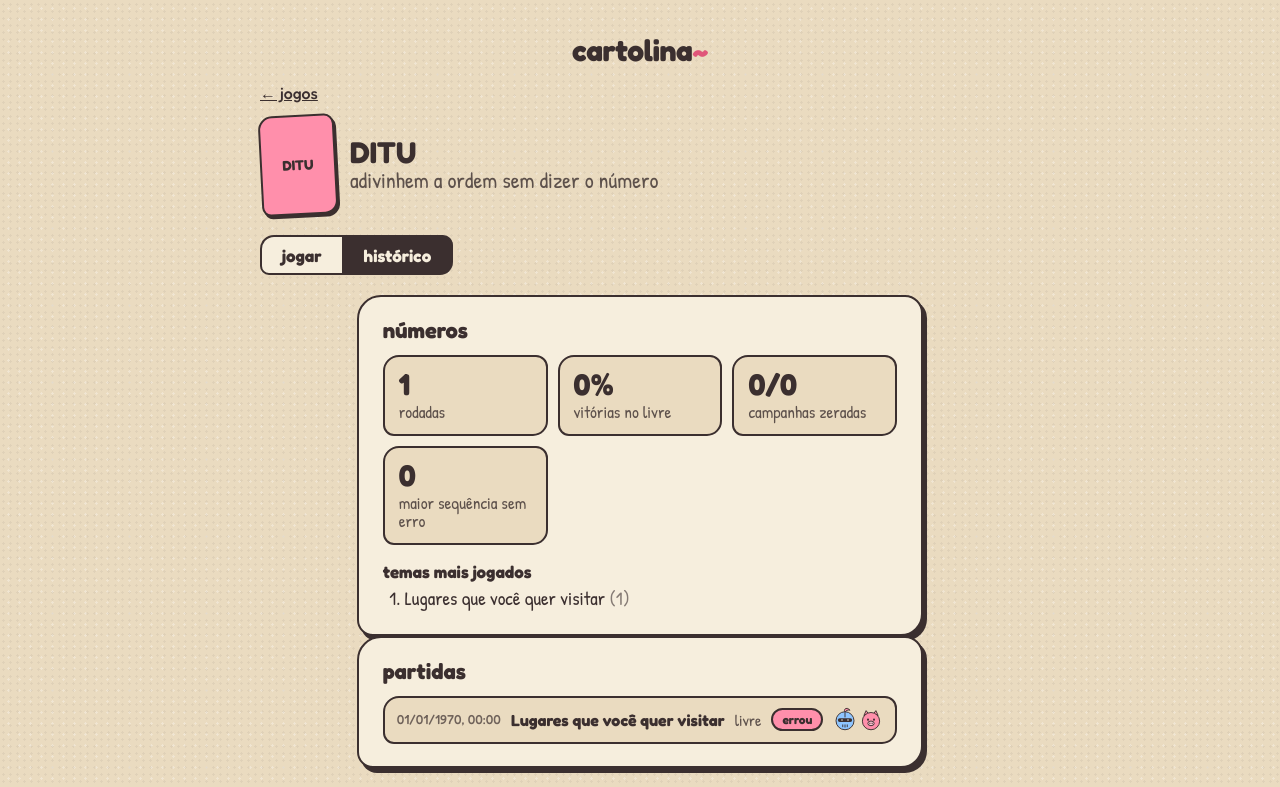
Test: GamePage › aba histórico › números e partidas do jogo; expande a fila revelada
Expected: the text "rodadas" is shown, [399,400,445,423]
Click the button "01/01/1970, 00:00 Lugares que você quer visitar livre errou" at (640, 720), box [385,698,895,742]
(page scrolled)
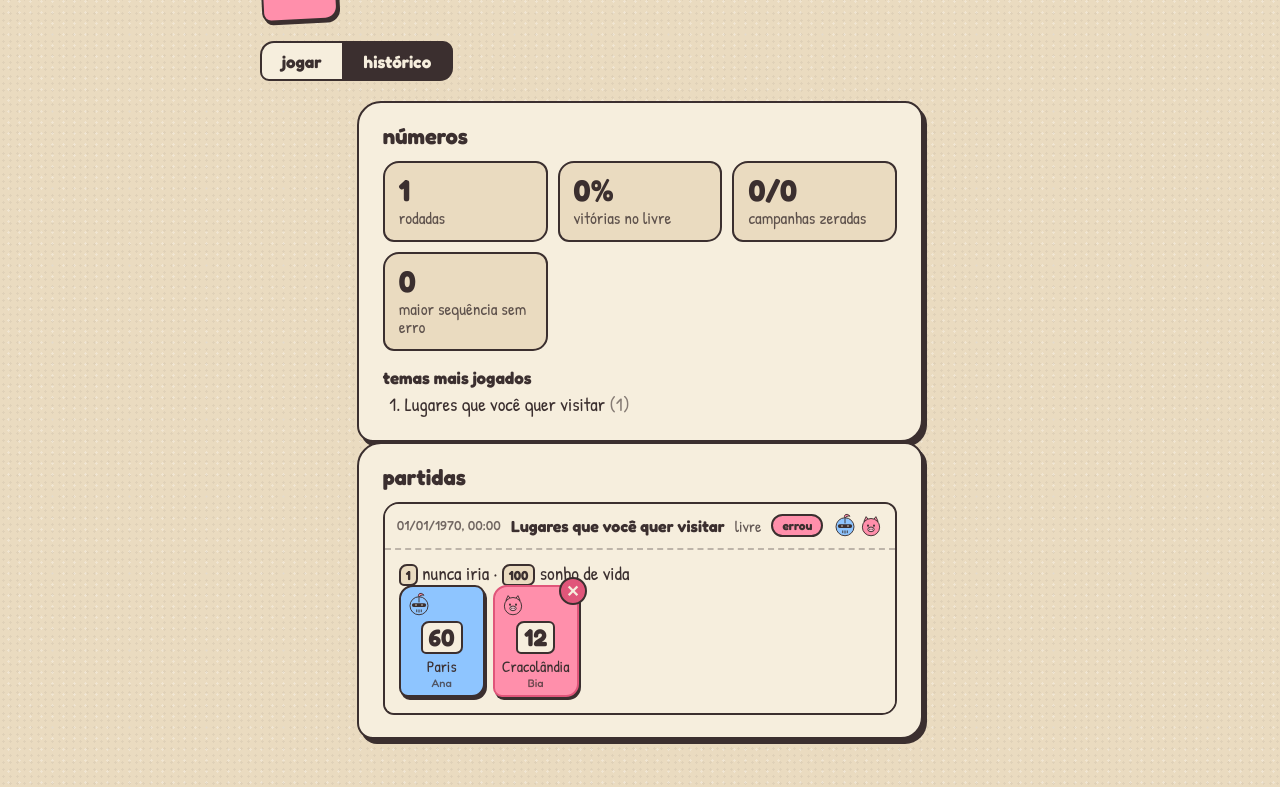
Result: the button "01/01/1970, 00:00 Lugares que você quer visitar livre errou" is expanded at [385,504,895,550]
Result: the text "Cracolândia" is shown at [502,658,570,674]
Result: the text "Paris" is shown at [427,658,457,674]
